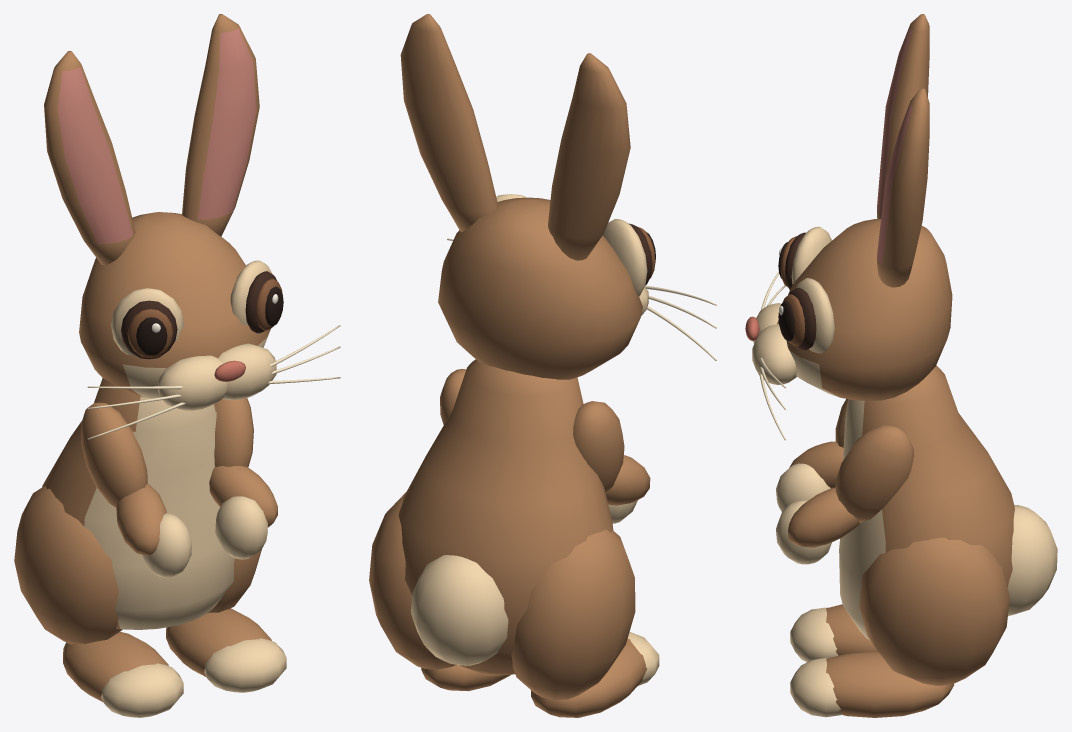
The model's file is asset.glb.
3 views of the same model, side by side, from view 1: azimuth 30°, elevation 25°; view 2: azimuth 150°, elevation 25°; view 3: azimuth 270°, elevation 25° (orthographic). The views are drawn at different scales.
Parts seen in each view (by area): view 1: Torso, Head, Haunch_L, Ear_R, Ear_L, UpperArm_L, HindFoot_L, HindFoot_R, HindToe_L, HindToe_R, Muzzle_L, ForePaw_R (+14 smaller); view 2: Torso, Head, Haunch_L, Ear_R, Ear_L, Tail, Haunch_R, HindFoot_L, UpperArm_L, EyePatch_L, Forearm_L, HindFoot_R (+2 smaller); view 3: Torso, Head, Haunch_R, Ear_R, HindFoot_R, UpperArm_R, Tail, Ear_L, Forearm_R, HindToe_R, HindToe_L, Muzzle_R (+9 smaller).
Part boxes in pixels (left/top/right/bottom): Torso: left=42, top=378, right=234, bottom=629; Head: left=79, top=212, right=270, bottom=398; Haunch_L: left=14, top=486, right=122, bottom=644; Ear_R: left=182, top=14, right=259, bottom=236; Ear_L: left=44, top=51, right=135, bottom=265; UpperArm_L: left=81, top=402, right=147, bottom=507; HindFoot_L: left=63, top=631, right=168, bottom=702; HindFoot_R: left=166, top=608, right=271, bottom=677; HindToe_L: left=101, top=663, right=183, bottom=717; HindToe_R: left=204, top=638, right=286, bottom=692; Muzzle_L: left=158, top=355, right=227, bottom=410; ForePaw_R: left=215, top=496, right=267, bottom=559; Torso: left=398, top=359, right=613, bottom=675; Head: left=438, top=197, right=642, bottom=379; Haunch_L: left=511, top=529, right=635, bottom=699; Ear_R: left=400, top=14, right=498, bottom=231; Ear_L: left=548, top=53, right=630, bottom=260; Tail: left=411, top=555, right=508, bottom=665; Haunch_R: left=369, top=492, right=456, bottom=669; HindFoot_L: left=531, top=639, right=646, bottom=717; UpperArm_L: left=573, top=401, right=624, bottom=492; EyePatch_L: left=602, top=219, right=647, bottom=296; Forearm_L: left=605, top=455, right=650, bottom=505; HindFoot_R: left=421, top=665, right=510, bottom=691; Torso: left=839, top=365, right=1014, bottom=640; Head: left=777, top=219, right=952, bottom=401; Haunch_R: left=859, top=537, right=1009, bottom=685; Ear_R: left=877, top=88, right=929, bottom=287; HindFoot_R: left=826, top=651, right=954, bottom=717; UpperArm_R: left=835, top=424, right=913, bottom=522; Tail: left=1007, top=505, right=1057, bottom=615; Ear_L: left=877, top=14, right=929, bottom=218; Forearm_R: left=788, top=487, right=859, bottom=547; HindToe_R: left=790, top=658, right=841, bottom=717; HindToe_L: left=790, top=607, right=838, bottom=661; Muzzle_R: left=752, top=324, right=797, bottom=385.
Size of the model in its own units: 1.47 by 3.52 by 1.57.
